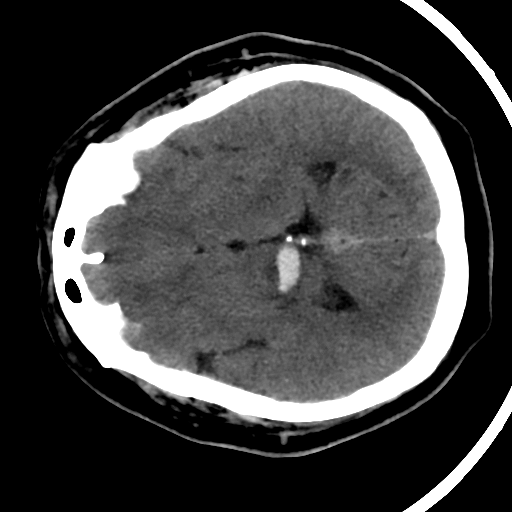a: (258, 225, 316, 310)
